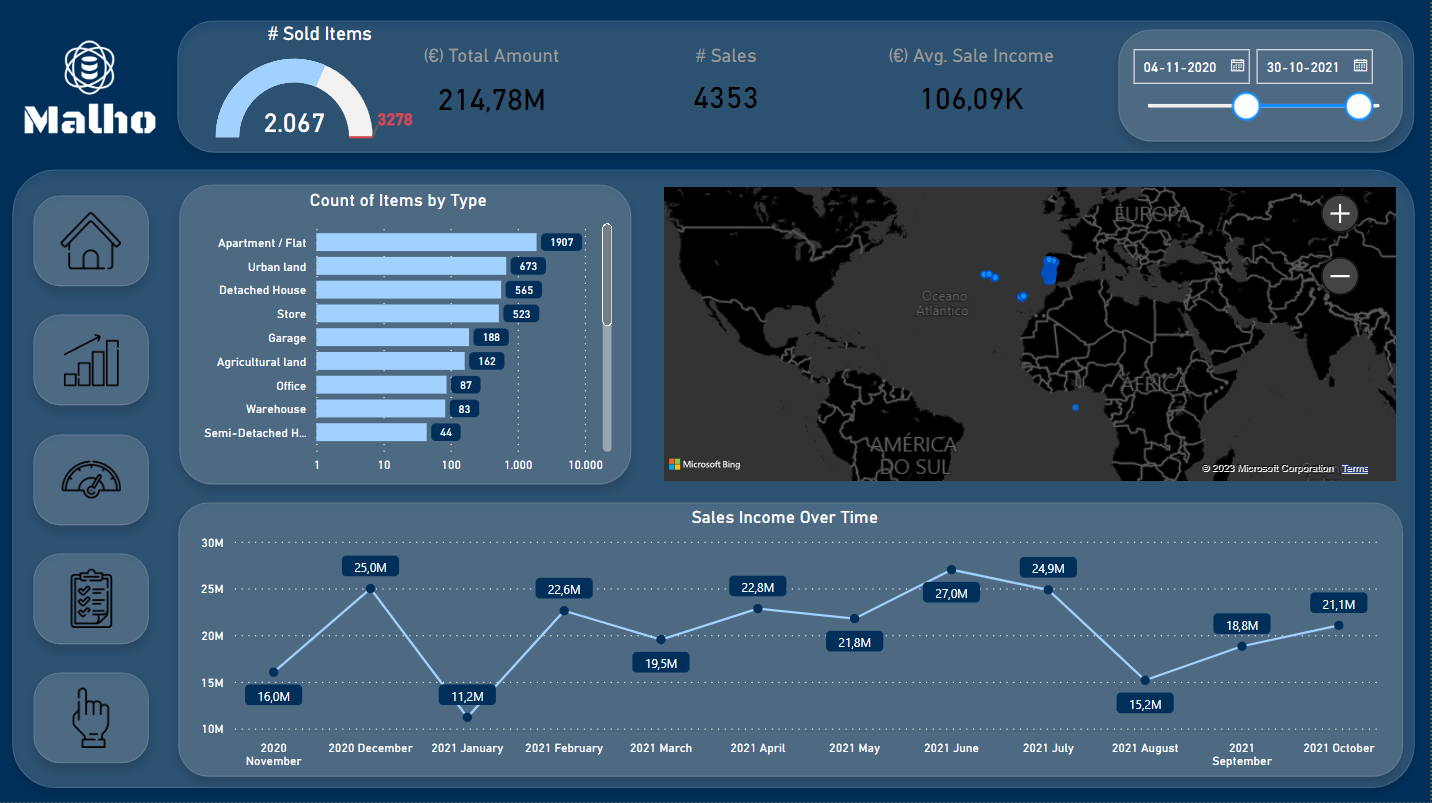

The dashboard page shown, as its layout file describes it:
{"tool":"powerbi","page":{"name":"Dashboard","canvas":[1280,720],"ordinal":0},"visuals":[{"type":"shape","box":[0,141.5,1279.7,578.5],"z":0},{"type":"shape","box":[148.5,439,1120.7,270.7],"z":1000},{"type":"shape","box":[147.8,8.1,1131.9,144.2],"z":2000},{"type":"shape","box":[18.8,591,129,106.6],"z":3000},{"type":"shape","box":[18.8,484.5,129,106.6],"z":4000},{"type":"shape","box":[18.8,377.9,129,106.6],"z":5000},{"type":"shape","box":[18.8,271.3,129,106.6],"z":6000},{"type":"shape","box":[18.8,164.8,129,106.6],"z":7000},{"type":"image","box":[51,186.3,64.5,64.5],"z":8000},{"type":"image","box":[51,295.5,64.5,59.1],"z":9000},{"type":"image","box":[51.9,396.7,62.7,69],"z":10000},{"type":"image","box":[51.9,505.1,62.7,65.4],"z":11000},{"type":"image","box":[51,612.5,64.5,64.5],"z":12000},{"type":"image","box":[18.8,17.9,127.2,125.4],"z":13000},{"type":"lineChart","title":"Sales Income Over Time","fields":{"Category":["dimDate.Year","dimDate.MonthName"],"Y":["Sum(PropertyRepository.TotalSaleAmount)"]},"box":[162.3,455.1,1083.8,242.4],"z":14000},{"type":"card","title":"(€) Total Amount ","fields":{"Values":["Sum(PropertyRepository.TotalSaleAmount)"]},"box":[364.7,42.1,153.1,77],"z":15000},{"type":"gauge","title":"# Sold Items","fields":{"Y":["PropertyRepository.PropertySaleCount"],"TargetValue":["PropertyRepository.SoldTarget"],"MaxValue":["PropertyRepository.SoldTarget"]},"box":[190,22.6,196.2,117.1],"z":16000},{"type":"card","title":"(€) Avg. Sale Income","fields":{"Values":["Avg(PropertyRepository.TotalSaleAmount)"]},"box":[771.5,42.1,197.2,76],"z":17000},{"type":"card","title":"# Sales","fields":{"Values":["Count(PropertyRepository.PropertyID)"]},"box":[554.7,42.1,193.1,74],"z":18000},{"type":"map","fields":{"Y":["PropertyRepository.Latitude"],"X":["PropertyRepository.Longitude"]},"box":[590.4,164.4,665.3,273.3],"z":19000},{"type":"shape","box":[989.3,16.4,280.4,126.4],"z":20000},{"type":"shape","box":[149,155.1,430.4,293.8],"z":23000},{"type":"barChart","title":"Count of Items by Type","fields":{"Category":["PropertyRepository.TypologyName"],"Y":["CountNonNull(PropertyRepository.PropertyID)"]},"box":[162.3,171.6,392.4,259.9],"z":24000},{"type":"slicer","fields":{"Values":["dimDate.Date"]},"box":[1002.6,37,253.7,86.3],"z":24501}]}

Visuals, with their boxes in screenshot pixels (x1, y1, x2, y2), scaled from the page's 1280x720 canvas onto the 1432x803 screenshot:
shape: [0, 158, 1431, 802]
shape: [166, 490, 1420, 792]
shape: [165, 9, 1431, 170]
shape: [21, 659, 165, 778]
shape: [21, 540, 165, 659]
shape: [21, 421, 165, 540]
shape: [21, 303, 165, 421]
shape: [21, 184, 165, 303]
image: [57, 208, 129, 280]
image: [57, 330, 129, 395]
image: [58, 442, 128, 519]
image: [58, 563, 128, 636]
image: [57, 683, 129, 755]
image: [21, 20, 163, 160]
"Sales Income Over Time" lineChart: [182, 508, 1394, 778]
"(€) Total Amount " card: [408, 47, 579, 133]
"# Sold Items" gauge: [213, 25, 432, 156]
"(€) Avg. Sale Income" card: [863, 47, 1084, 132]
"# Sales" card: [621, 47, 837, 129]
map - PropertyRepository.Latitude x PropertyRepository.Longitude: [661, 183, 1405, 488]
shape: [1107, 18, 1420, 159]
shape: [167, 173, 648, 501]
"Count of Items by Type" barChart: [182, 191, 621, 481]
slicer - dimDate.Date: [1122, 41, 1405, 138]
